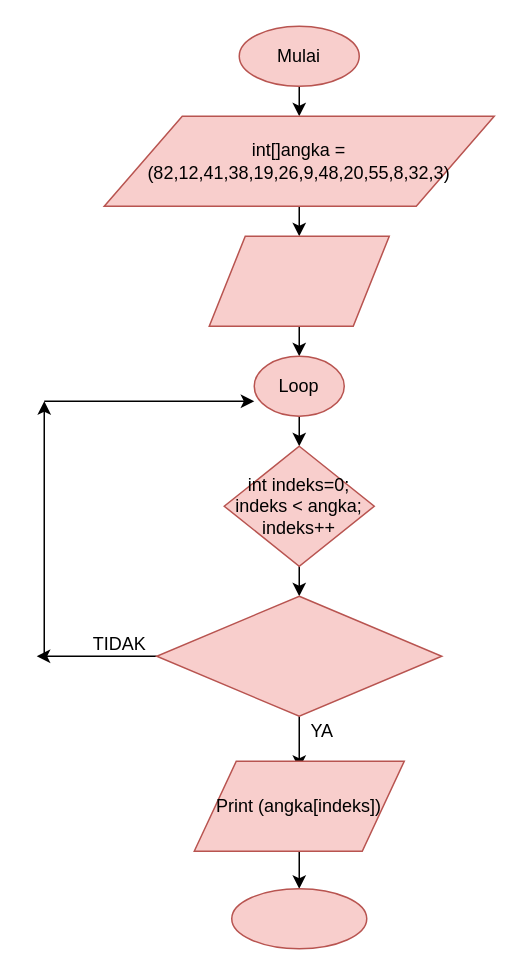
This 521x975 diagram has some shape labels left out. The centre of each missing label's shape, as x and y in pixels:
if valueOf (angka[indeks]).contains("2"): (298,655)
Print angka yg memiliki angka 2 diarray: (298,280)
Selesai: (298,918)
